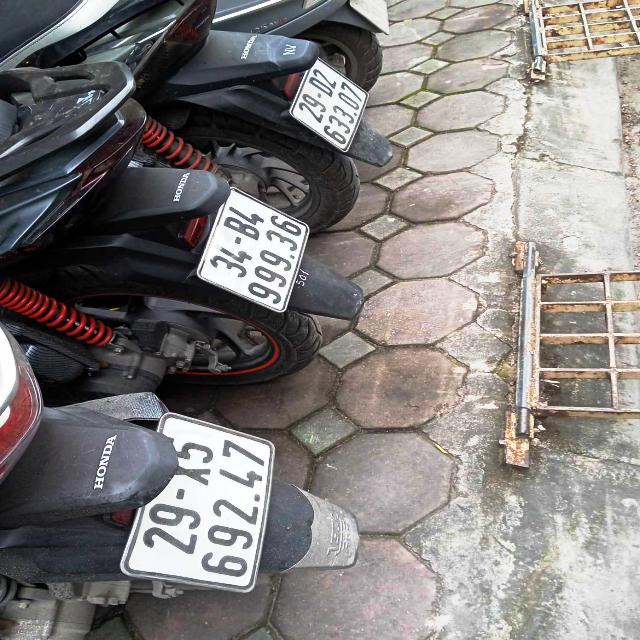license_plate: (103, 401, 290, 606), (184, 179, 322, 324), (280, 44, 381, 164)
